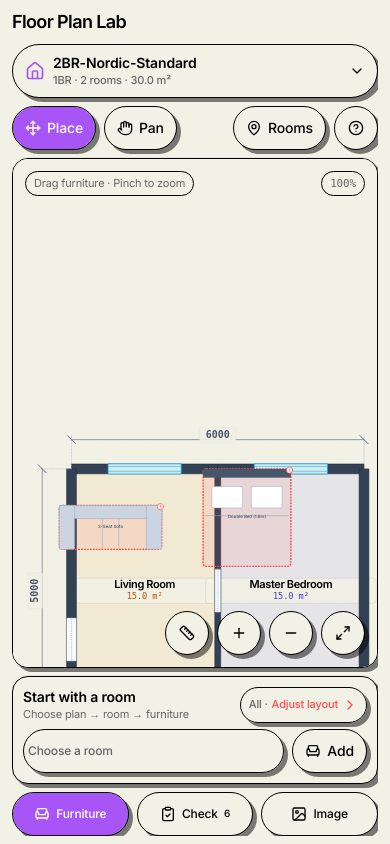
Mobile Floor Plan Editor Ergonomics (AC-5, AC-4, AC-27) › reaches Furniture catalog palette from mobile action button
The image size is (390, 844).
Click the button with test id "mobile-add-furniture-btn" at x=70, y=814, box [12,792,129,836]
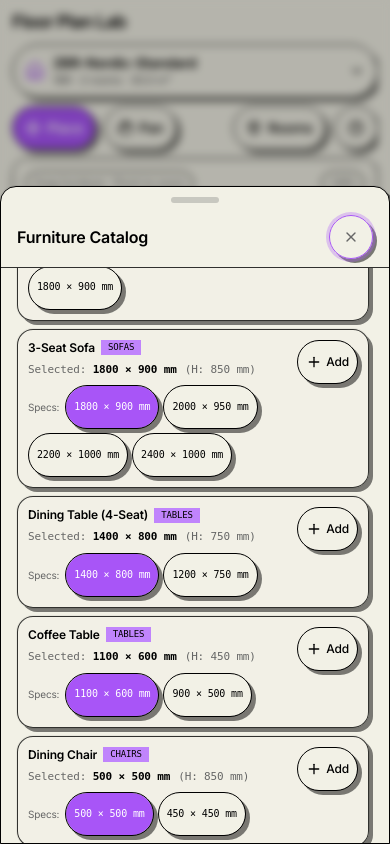
Expected: the dialog with test id "mobile-bottom-sheet" is shown
